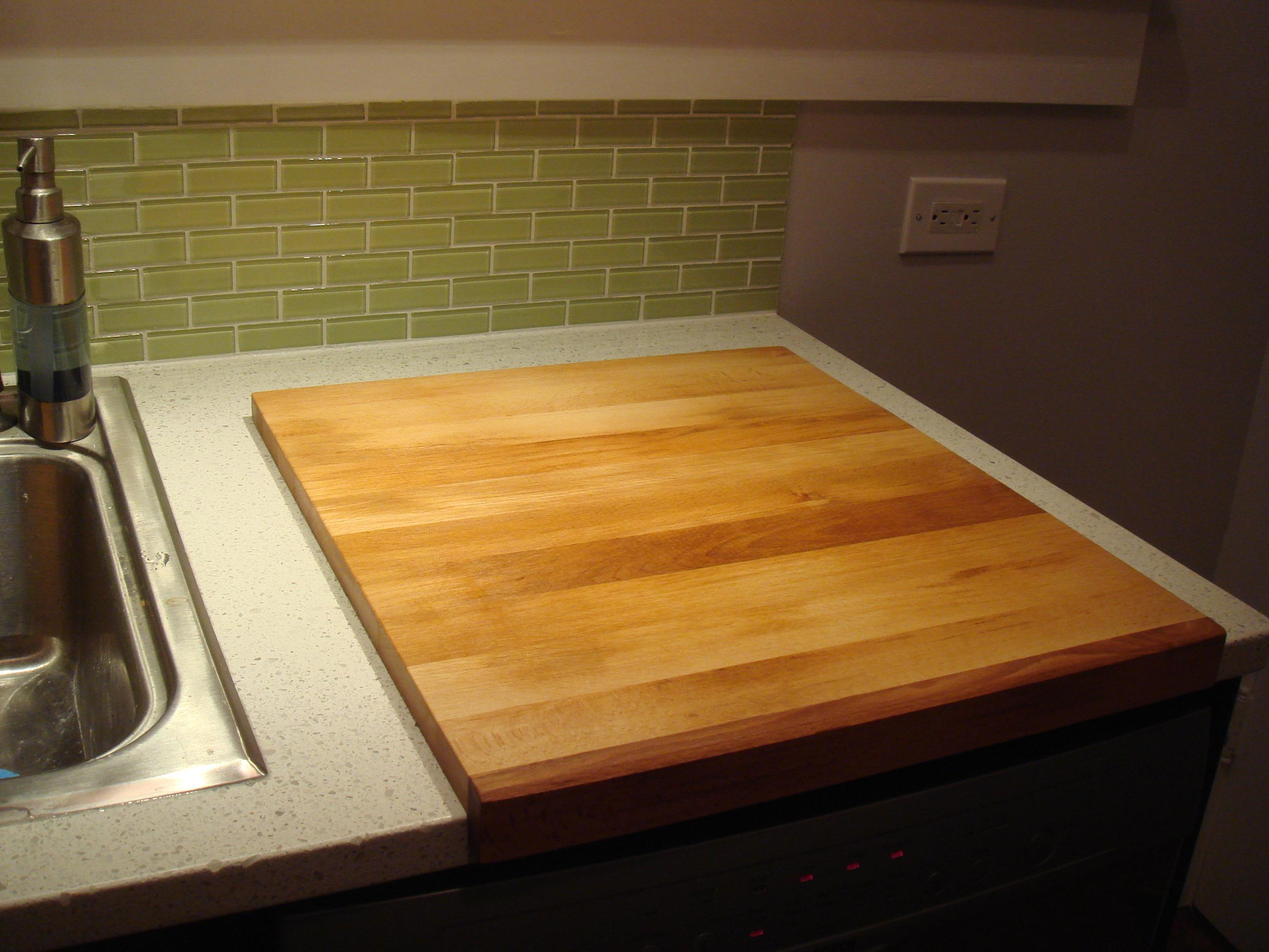gloved_hand: (240, 336, 1230, 812)
